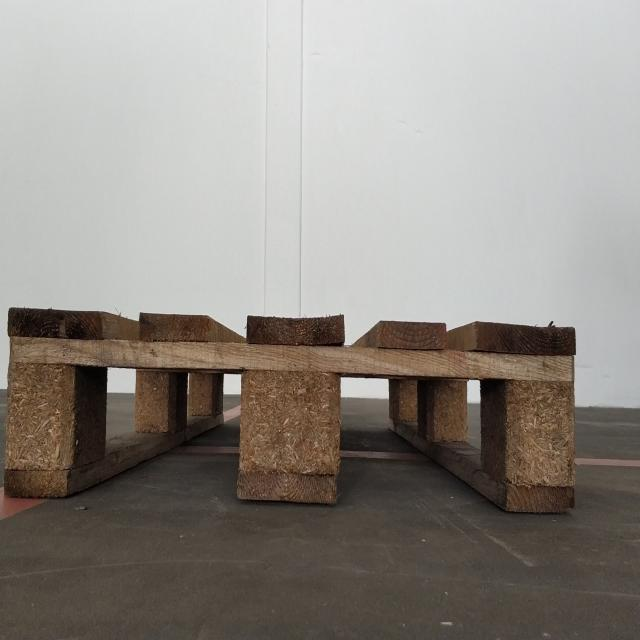block: (235, 336, 340, 512), (496, 319, 579, 516), (0, 305, 76, 502), (130, 346, 171, 438), (415, 373, 468, 442), (187, 365, 222, 423)
front: (6, 303, 583, 518)
